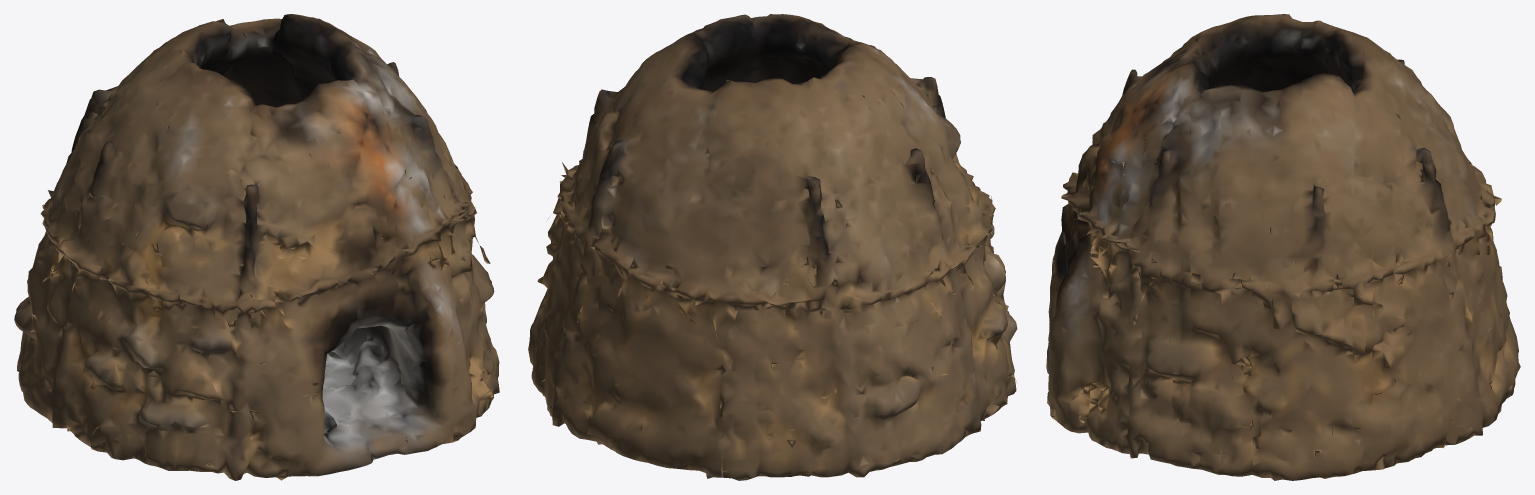
The model's file is jaegerhuette.glb.
3 views of the same model, side by side, from view 1: azimuth 30°, elevation 25°; view 2: azimuth 150°, elevation 25°; view 3: azimuth 270°, elevation 25° (orthographic).
Bounding box in the file's own units: 1.87 × 1.43 × 1.84.
